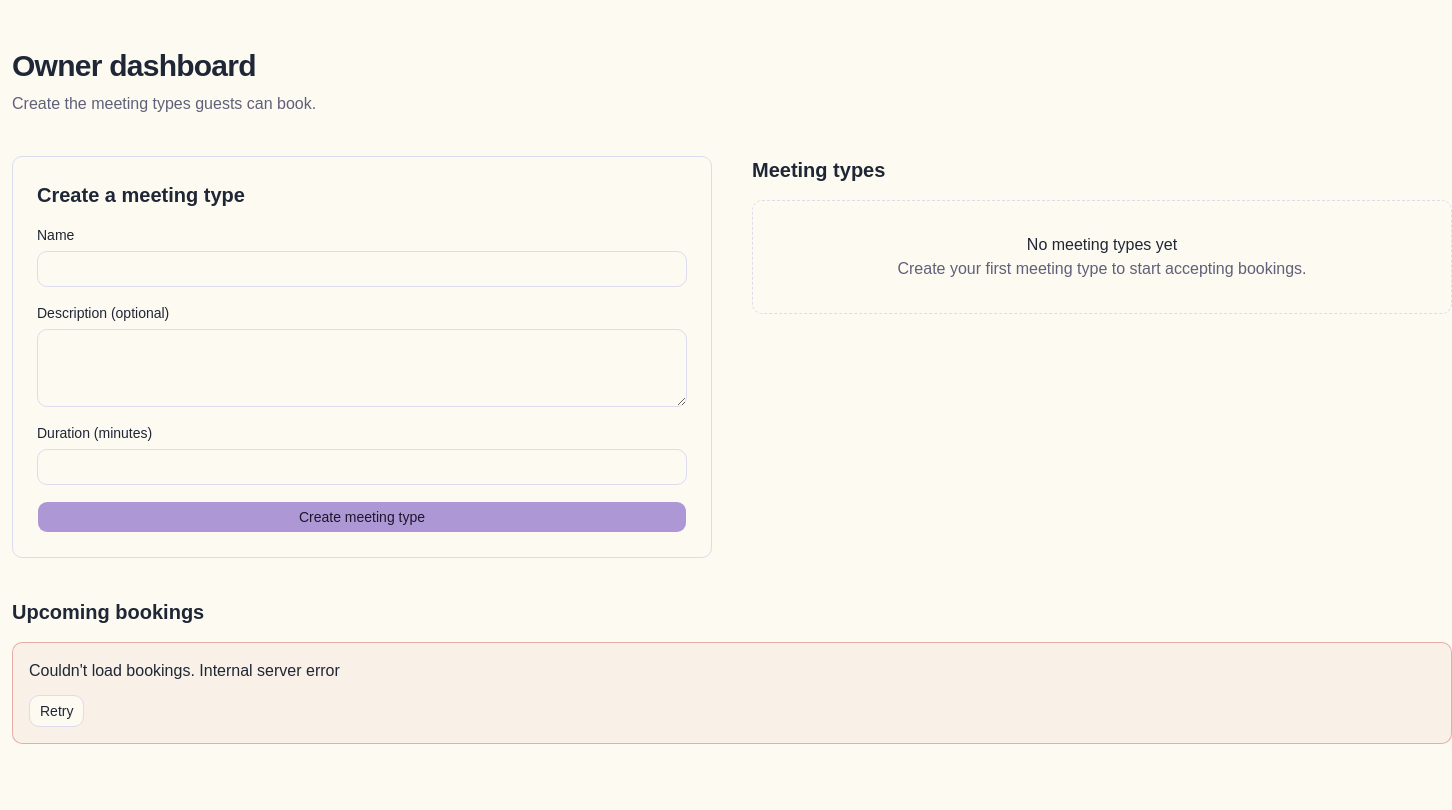
Test: OwnerDashboardPage › shows a bookings load error and retries independently of meeting types
The width and height of the screenshot is (1452, 810).
expect the text "Couldn't load bookings. Internal server error" is shown: met, box [29,659,340,683]
expect the heading "No meeting types yet" is shown: met, box [1027,236,1177,253]
Click the button "Retry" at [57, 711], box [29,695,84,727]
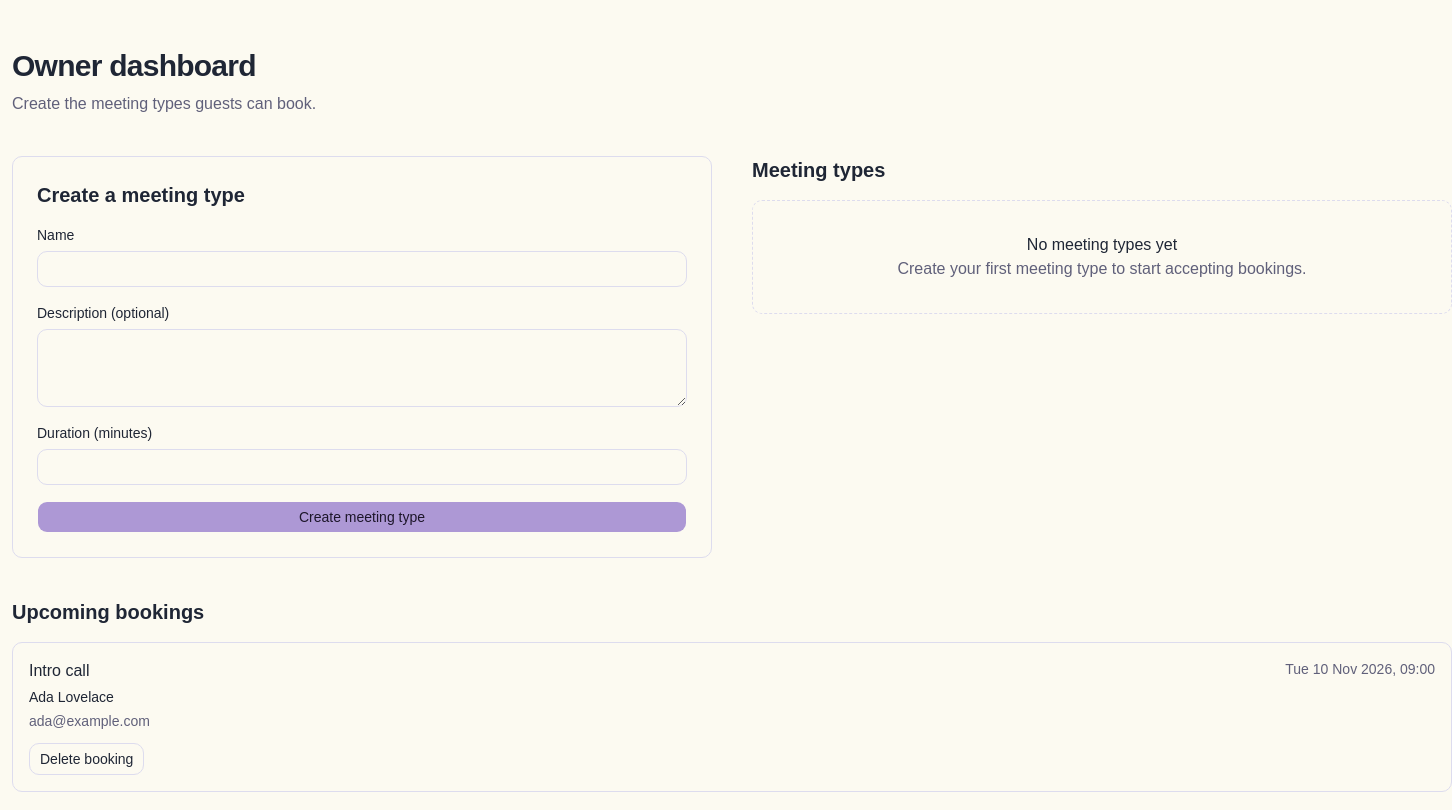
expect the text "Ada Lovelace" is shown: met, box [29,689,114,705]
